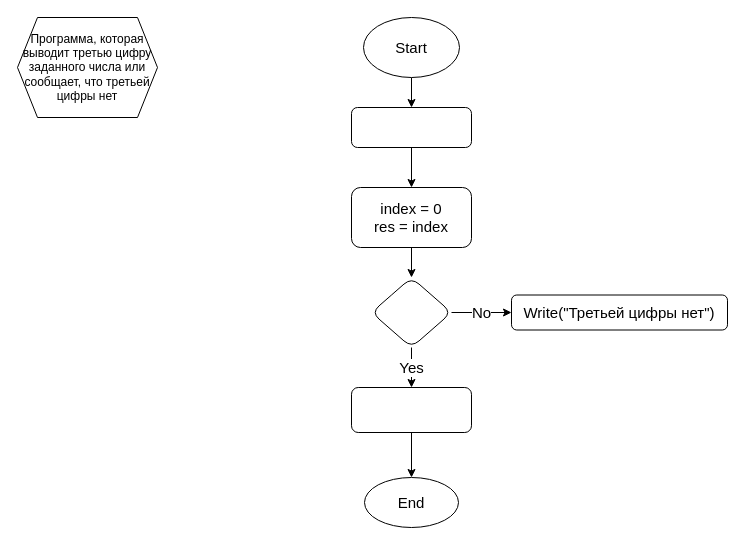
Some shapes in this 745 by 545 pixel diagram are drawn without their labels. The shapes that lost their labels are listed below. From the top down, each one's box as (x1, y1, x2, y2) in pixels, then its label:
(350, 106, 472, 148): nambers
(370, 276, 452, 348): res > 2
(350, 386, 472, 432): Write(res[2])
